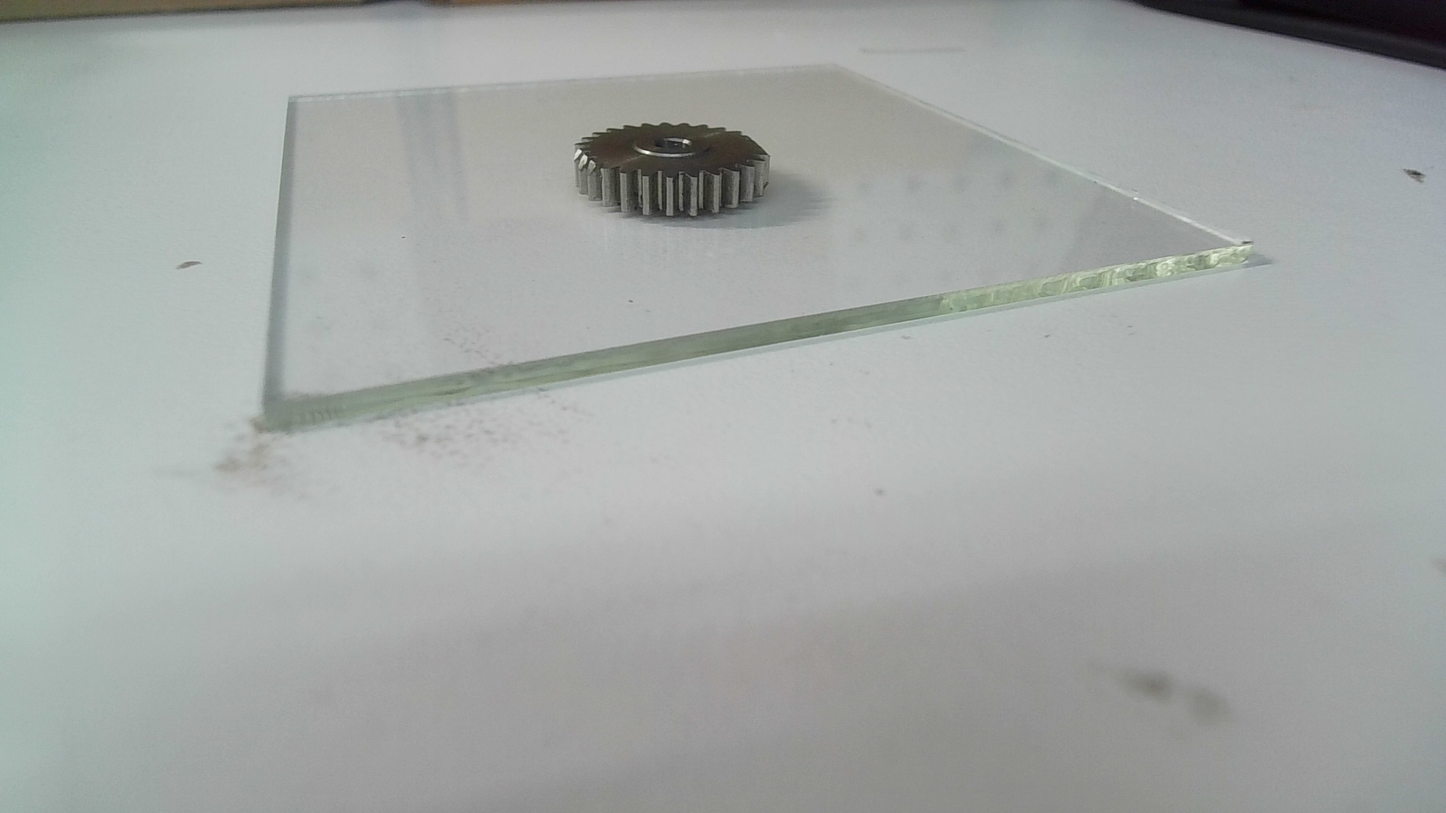gear: (570, 120, 778, 223)
